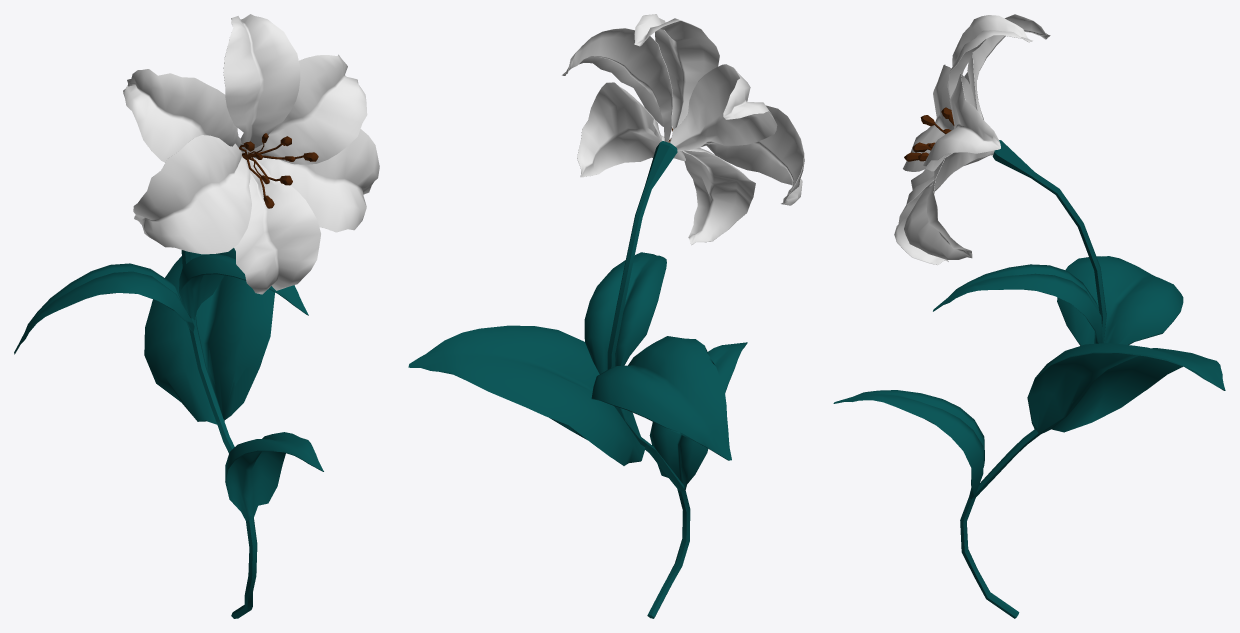
File: maya2sketchfab.fbx
The picture shows the model from 3 angles, left to right: view 1: azimuth 30°, elevation 25°; view 2: azimuth 150°, elevation 25°; view 3: azimuth 270°, elevation 25°; orthographic projection. The views are drawn at different scales.
Parts seen in each view (by area): view 1: pPlane7, pPlane1, pPlane2, pPlane6, pPlane4, pPlane5, pPlane3, pPlane9, pPlane8; view 2: pPlane7, pPlane9, pPlane5, pPlane8, pPlane3, pPlane4, pPlane6, pPlane2, pPlane1; view 3: pPlane7, pPlane9, pPlane8, pPlane3, pPlane4, pPlane2, pPlane1, pPlane5, pPlane6.
Boxes of the visible parts, bbox=[...] form: pPlane7: bbox=[144, 250, 323, 618]; pPlane1: bbox=[133, 135, 251, 254]; pPlane2: bbox=[223, 14, 300, 153]; pPlane6: bbox=[234, 159, 320, 294]; pPlane4: bbox=[240, 54, 367, 164]; pPlane5: bbox=[123, 69, 241, 162]; pPlane3: bbox=[251, 129, 379, 232]; pPlane9: bbox=[14, 263, 194, 354]; pPlane8: bbox=[179, 248, 308, 320]; pPlane7: bbox=[408, 141, 747, 618]; pPlane9: bbox=[591, 336, 731, 460]; pPlane5: bbox=[670, 64, 777, 150]; pPlane8: bbox=[584, 252, 666, 373]; pPlane3: bbox=[577, 82, 685, 177]; pPlane4: bbox=[562, 28, 672, 142]; pPlane6: bbox=[680, 147, 755, 244]; pPlane2: bbox=[634, 14, 719, 142]; pPlane1: bbox=[700, 105, 804, 205]; pPlane7: bbox=[833, 140, 1225, 618]; pPlane9: bbox=[1057, 256, 1183, 345]; pPlane8: bbox=[933, 264, 1102, 343]; pPlane3: bbox=[904, 150, 994, 259]; pPlane4: bbox=[923, 73, 1000, 171]; pPlane2: bbox=[947, 15, 1032, 99]; pPlane1: bbox=[903, 64, 954, 171]; pPlane5: bbox=[964, 14, 1050, 119]; pPlane6: bbox=[894, 169, 948, 264].
Bounding box in the file's own units: 10.25 × 20.14 × 12.02.
